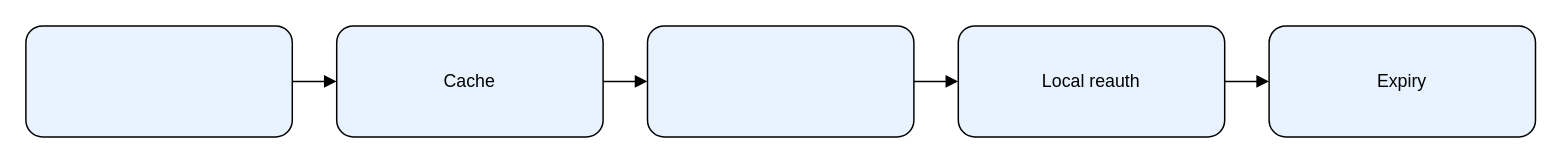
This 1561x163 diagram has some shape labels left out. The shapes that lost their labels are listed below. From the top down, each one's box as (x1, y1, x2, y2) in pixels, then its label:
(24, 24, 292, 137): RADIUS auth
(646, 24, 914, 137): Outage
